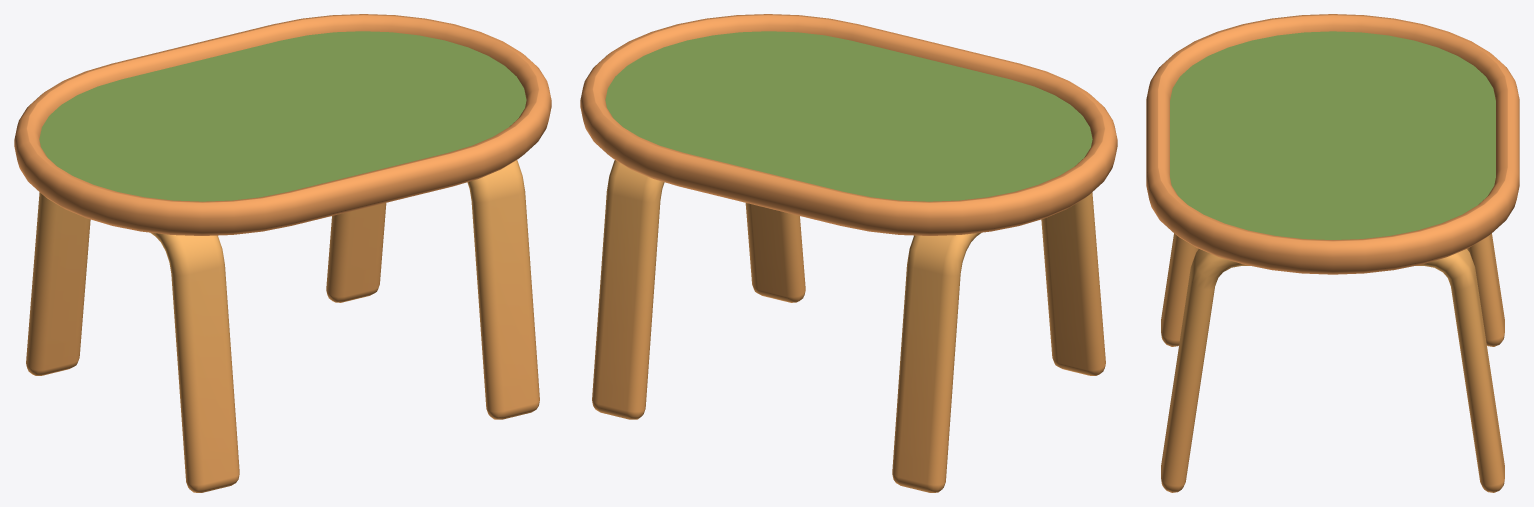
Rendered from Kids_Table_01.glb.
3 renders of one model, left to right at view 1: azimuth 30°, elevation 25°; view 2: azimuth 150°, elevation 25°; view 3: azimuth 270°, elevation 25°, orthographic.
Parts seen in each view (by area): view 1: Kids_Table_01; view 2: Kids_Table_01; view 3: Kids_Table_01.
Part boxes in pixels (x1,y1,x2,y2): Kids_Table_01: (14, 14, 551, 492); Kids_Table_01: (580, 14, 1117, 492); Kids_Table_01: (1146, 14, 1519, 492).
Size of the model in its own units: 0.9 by 0.5027 by 0.6.
Materials: 1 (1 with a texture image).
